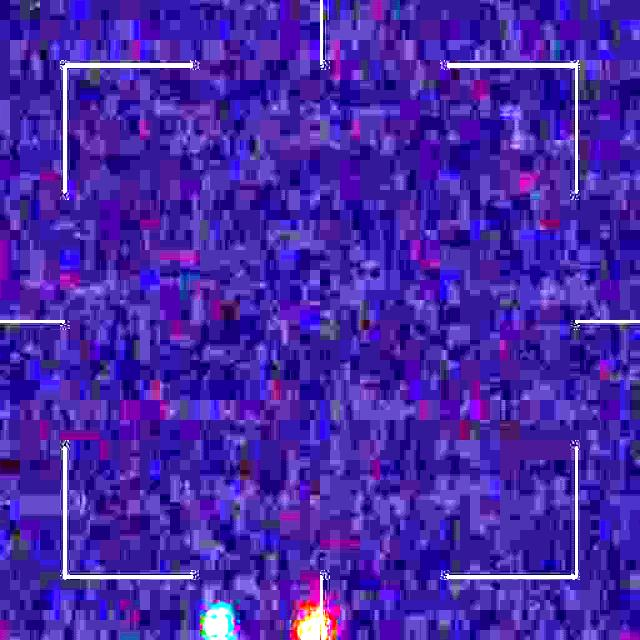bird: (206, 611, 329, 640)
